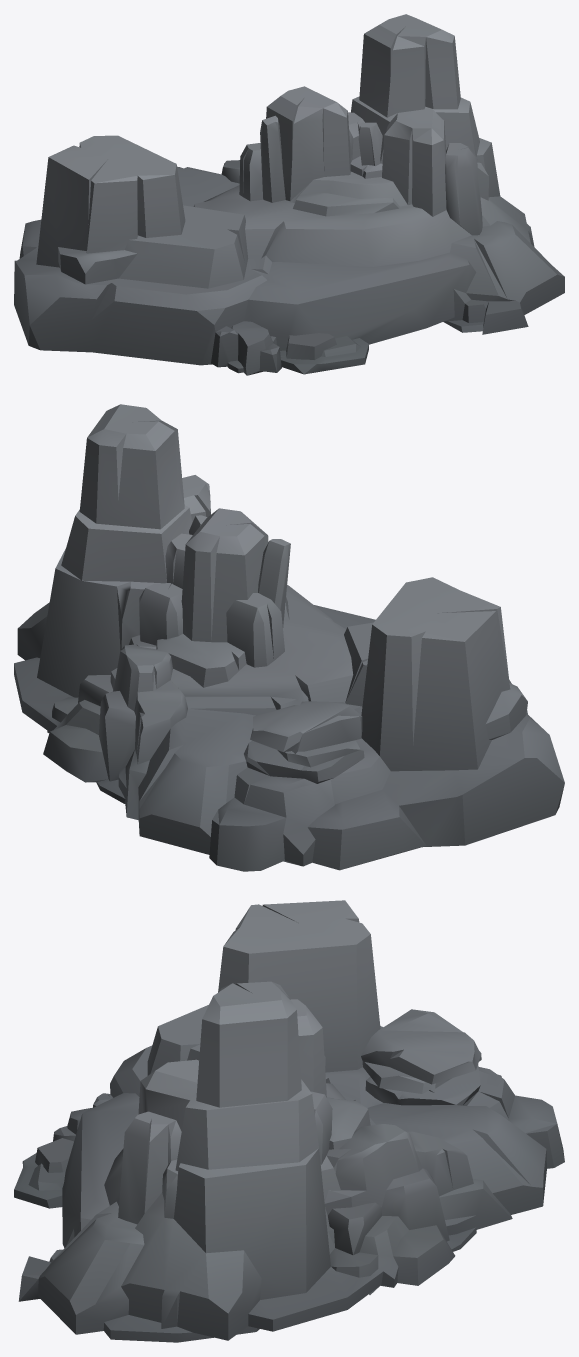
Rendered from Rock_1.fbx.
The picture shows the model from 3 angles, top to bottom: view 1: azimuth 30°, elevation 25°; view 2: azimuth 150°, elevation 25°; view 3: azimuth 270°, elevation 25°; orthographic projection. The views are drawn at different scales.
Parts seen in each view (by area): view 1: Rock_1; view 2: Rock_1; view 3: Rock_1.
Boxes of the visible parts, x1,y1,x2,y2 form: Rock_1: [14, 14, 564, 375]; Rock_1: [14, 404, 564, 871]; Rock_1: [14, 900, 564, 1342].
Size of the model in its own units: 2600 by 1284 by 2107.
